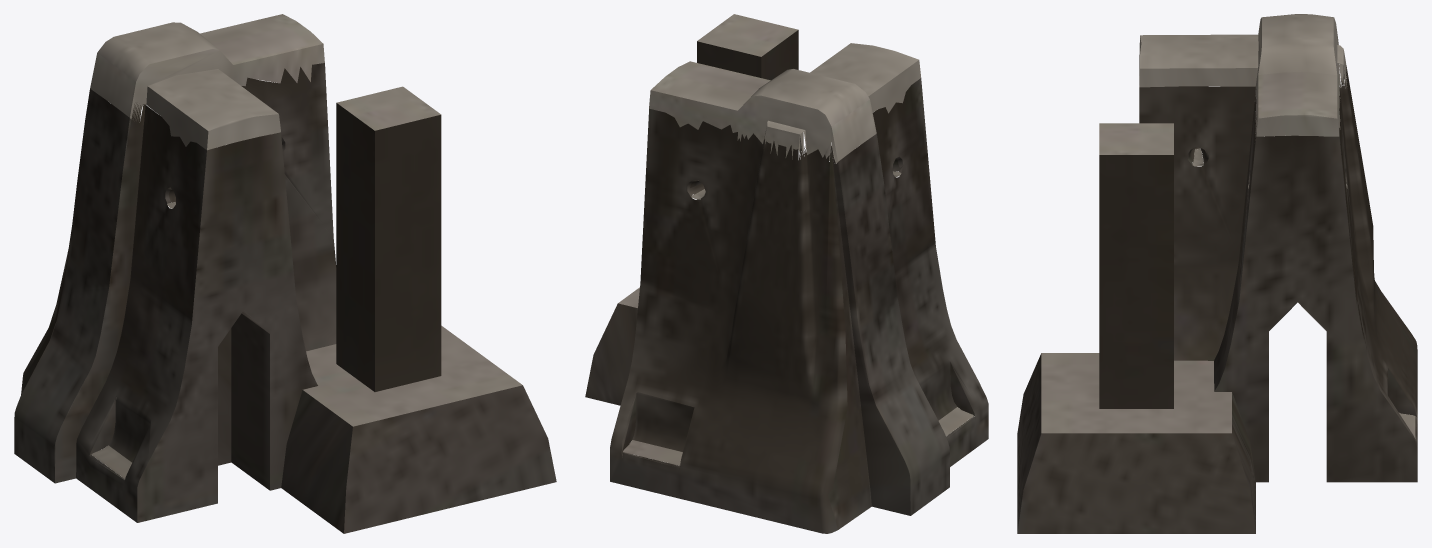
File: stone-wall-es-fill.glb
3 views of the same model, side by side, from view 1: azimuth 30°, elevation 25°; view 2: azimuth 150°, elevation 25°; view 3: azimuth 270°, elevation 25° (orthographic). The views are drawn at different scales.
Parts seen in each view (by area): view 1: body; view 2: body; view 3: body.
Boxes of the visible parts, left/top/right/bottom form: body: left=14, top=14, right=556, bottom=533; body: left=585, top=14, right=988, bottom=533; body: left=1017, top=14, right=1417, bottom=533.
Size of the model in its own units: 1.32 by 1.32 by 1.24.
1 material, 1 textured.
